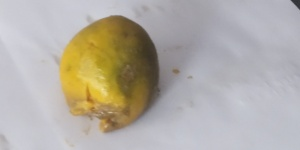BAD: (61, 15, 160, 133)
